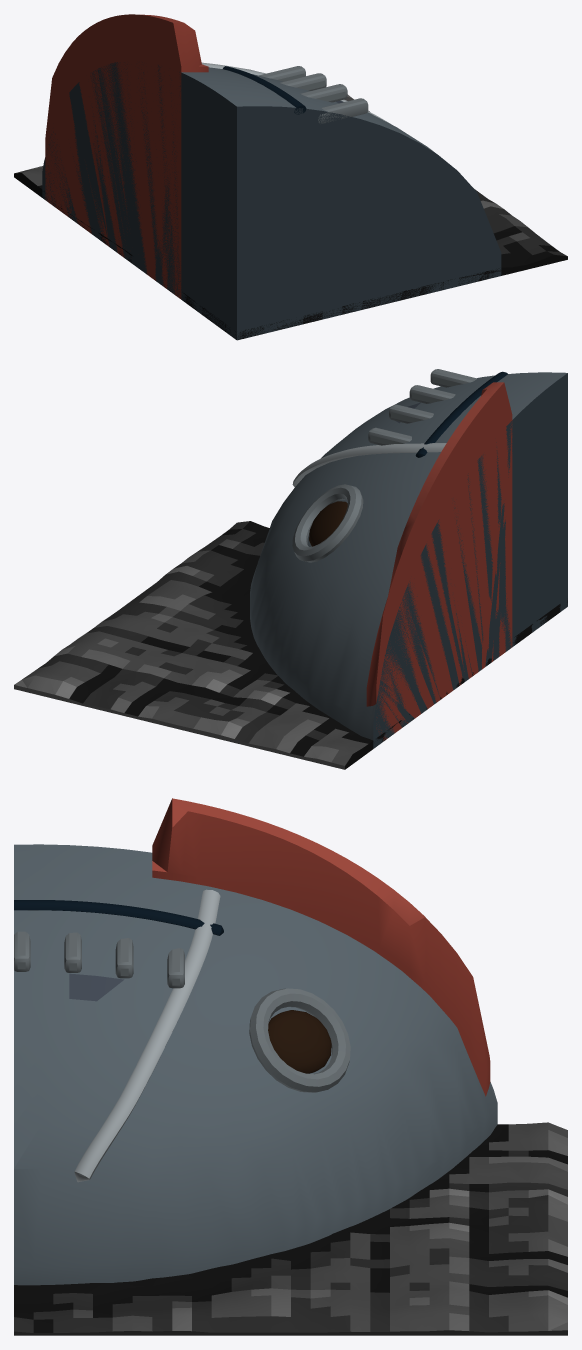
The model's file is armour_dome_tr.glb.
3 views of the same model, one above another, from view 1: azimuth 30°, elevation 25°; view 2: azimuth 150°, elevation 25°; view 3: azimuth 270°, elevation 25° (orthographic). The views are drawn at different scales.
Visible parts, largest first — view 1: armour_dome_tr_shell, armour_dome_tr_housing, armour_dome_tr_tiles, armour_dome_tr_vent3, armour_dome_tr_seam_right, armour_dome_tr_vent2, armour_dome_tr_vent1, armour_dome_tr_vent0; view 2: armour_dome_tr_shell, armour_dome_tr_tiles, armour_dome_tr_housing, armour_dome_tr_port_ring_r, armour_dome_tr_ridge_r, armour_dome_tr_port_r, armour_dome_tr_seam_right, armour_dome_tr_vent1, armour_dome_tr_vent2, armour_dome_tr_vent3, armour_dome_tr_vent0; view 3: armour_dome_tr_shell, armour_dome_tr_tiles, armour_dome_tr_housing, armour_dome_tr_ridge_r, armour_dome_tr_port_ring_r, armour_dome_tr_port_r, armour_dome_tr_seam_right, armour_dome_tr_vent1, armour_dome_tr_vent2, armour_dome_tr_vent0, armour_dome_tr_vent3.
Part boxes in pixels (x1,y1,x2,y2): armour_dome_tr_shell: [42, 62, 501, 340]; armour_dome_tr_housing: [45, 14, 208, 299]; armour_dome_tr_tiles: [14, 94, 567, 339]; armour_dome_tr_vent3: [318, 98, 368, 123]; armour_dome_tr_seam_right: [223, 66, 306, 114]; armour_dome_tr_vent2: [300, 84, 347, 102]; armour_dome_tr_vent1: [280, 73, 326, 90]; armour_dome_tr_vent0: [259, 66, 305, 81]; armour_dome_tr_shell: [250, 372, 567, 748]; armour_dome_tr_tiles: [14, 521, 567, 769]; armour_dome_tr_housing: [366, 382, 512, 740]; armour_dome_tr_port_ring_r: [292, 484, 363, 562]; armour_dome_tr_ridge_r: [292, 443, 446, 487]; armour_dome_tr_port_r: [309, 501, 347, 546]; armour_dome_tr_seam_right: [415, 371, 507, 457]; armour_dome_tr_vent1: [389, 404, 433, 423]; armour_dome_tr_vent2: [409, 385, 455, 403]; armour_dome_tr_vent3: [430, 369, 476, 387]; armour_dome_tr_vent0: [368, 427, 411, 445]; armour_dome_tr_shell: [14, 844, 497, 1285]; armour_dome_tr_tiles: [14, 1122, 567, 1335]; armour_dome_tr_housing: [152, 798, 490, 1096]; armour_dome_tr_ridge_r: [74, 889, 220, 1182]; armour_dome_tr_port_ring_r: [249, 988, 350, 1092]; armour_dome_tr_port_r: [268, 1010, 331, 1073]; armour_dome_tr_seam_right: [14, 900, 223, 935]; armour_dome_tr_vent1: [115, 938, 133, 978]; armour_dome_tr_vent2: [64, 932, 81, 972]; armour_dome_tr_vent0: [167, 948, 184, 988]; armour_dome_tr_vent3: [14, 931, 30, 971].
Size of the model in its own units: 23.98 by 18.76 by 27.98.
